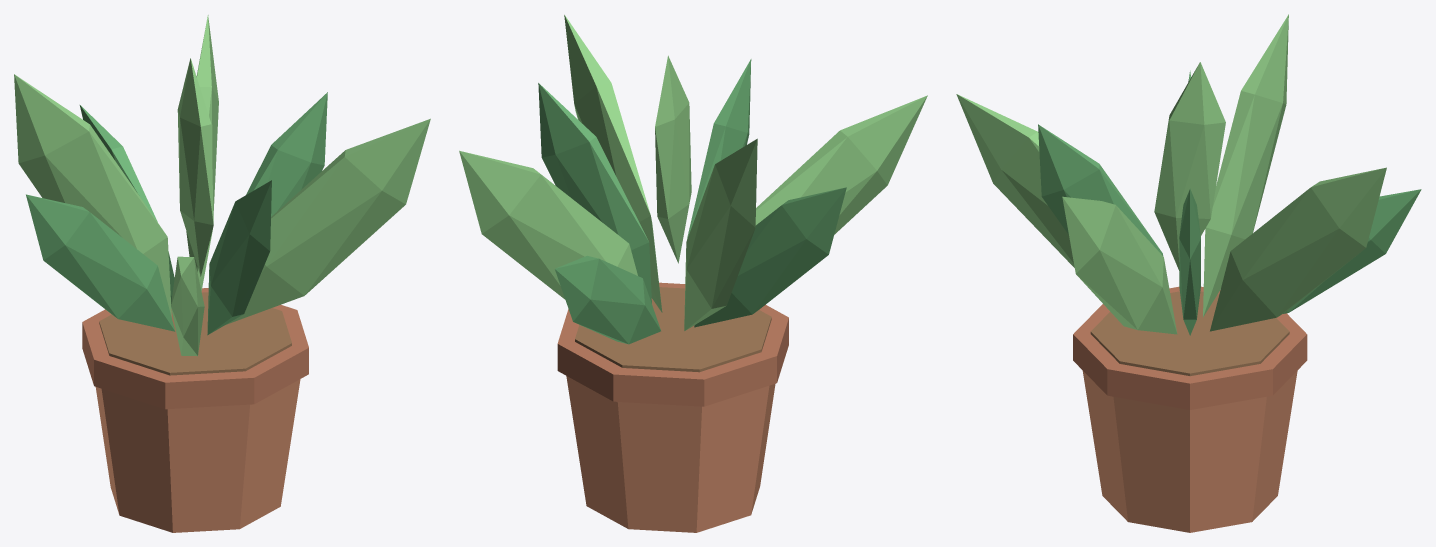
Rendered from prop_plant_pot_01.glb.
3 views of the same model, side by side, from view 1: azimuth 30°, elevation 25°; view 2: azimuth 150°, elevation 25°; view 3: azimuth 270°, elevation 25° (orthographic). The views are drawn at different scales.
Visible parts, largest first — view 1: prop_plant_pot_01_body; view 2: prop_plant_pot_01_body; view 3: prop_plant_pot_01_body.
Part boxes in pixels (<box>): prop_plant_pot_01_body: <box>14,15,430,532</box>; prop_plant_pot_01_body: <box>459,15,927,532</box>; prop_plant_pot_01_body: <box>956,14,1421,532</box>.
Size of the model in its own units: 0.671 by 0.8192 by 0.7959.
